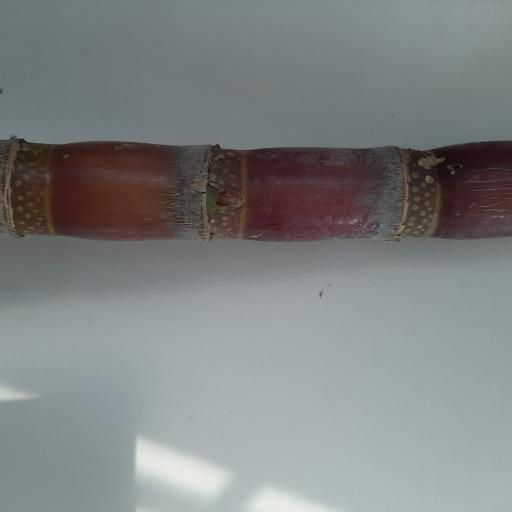Bud: (215, 187, 246, 214)
